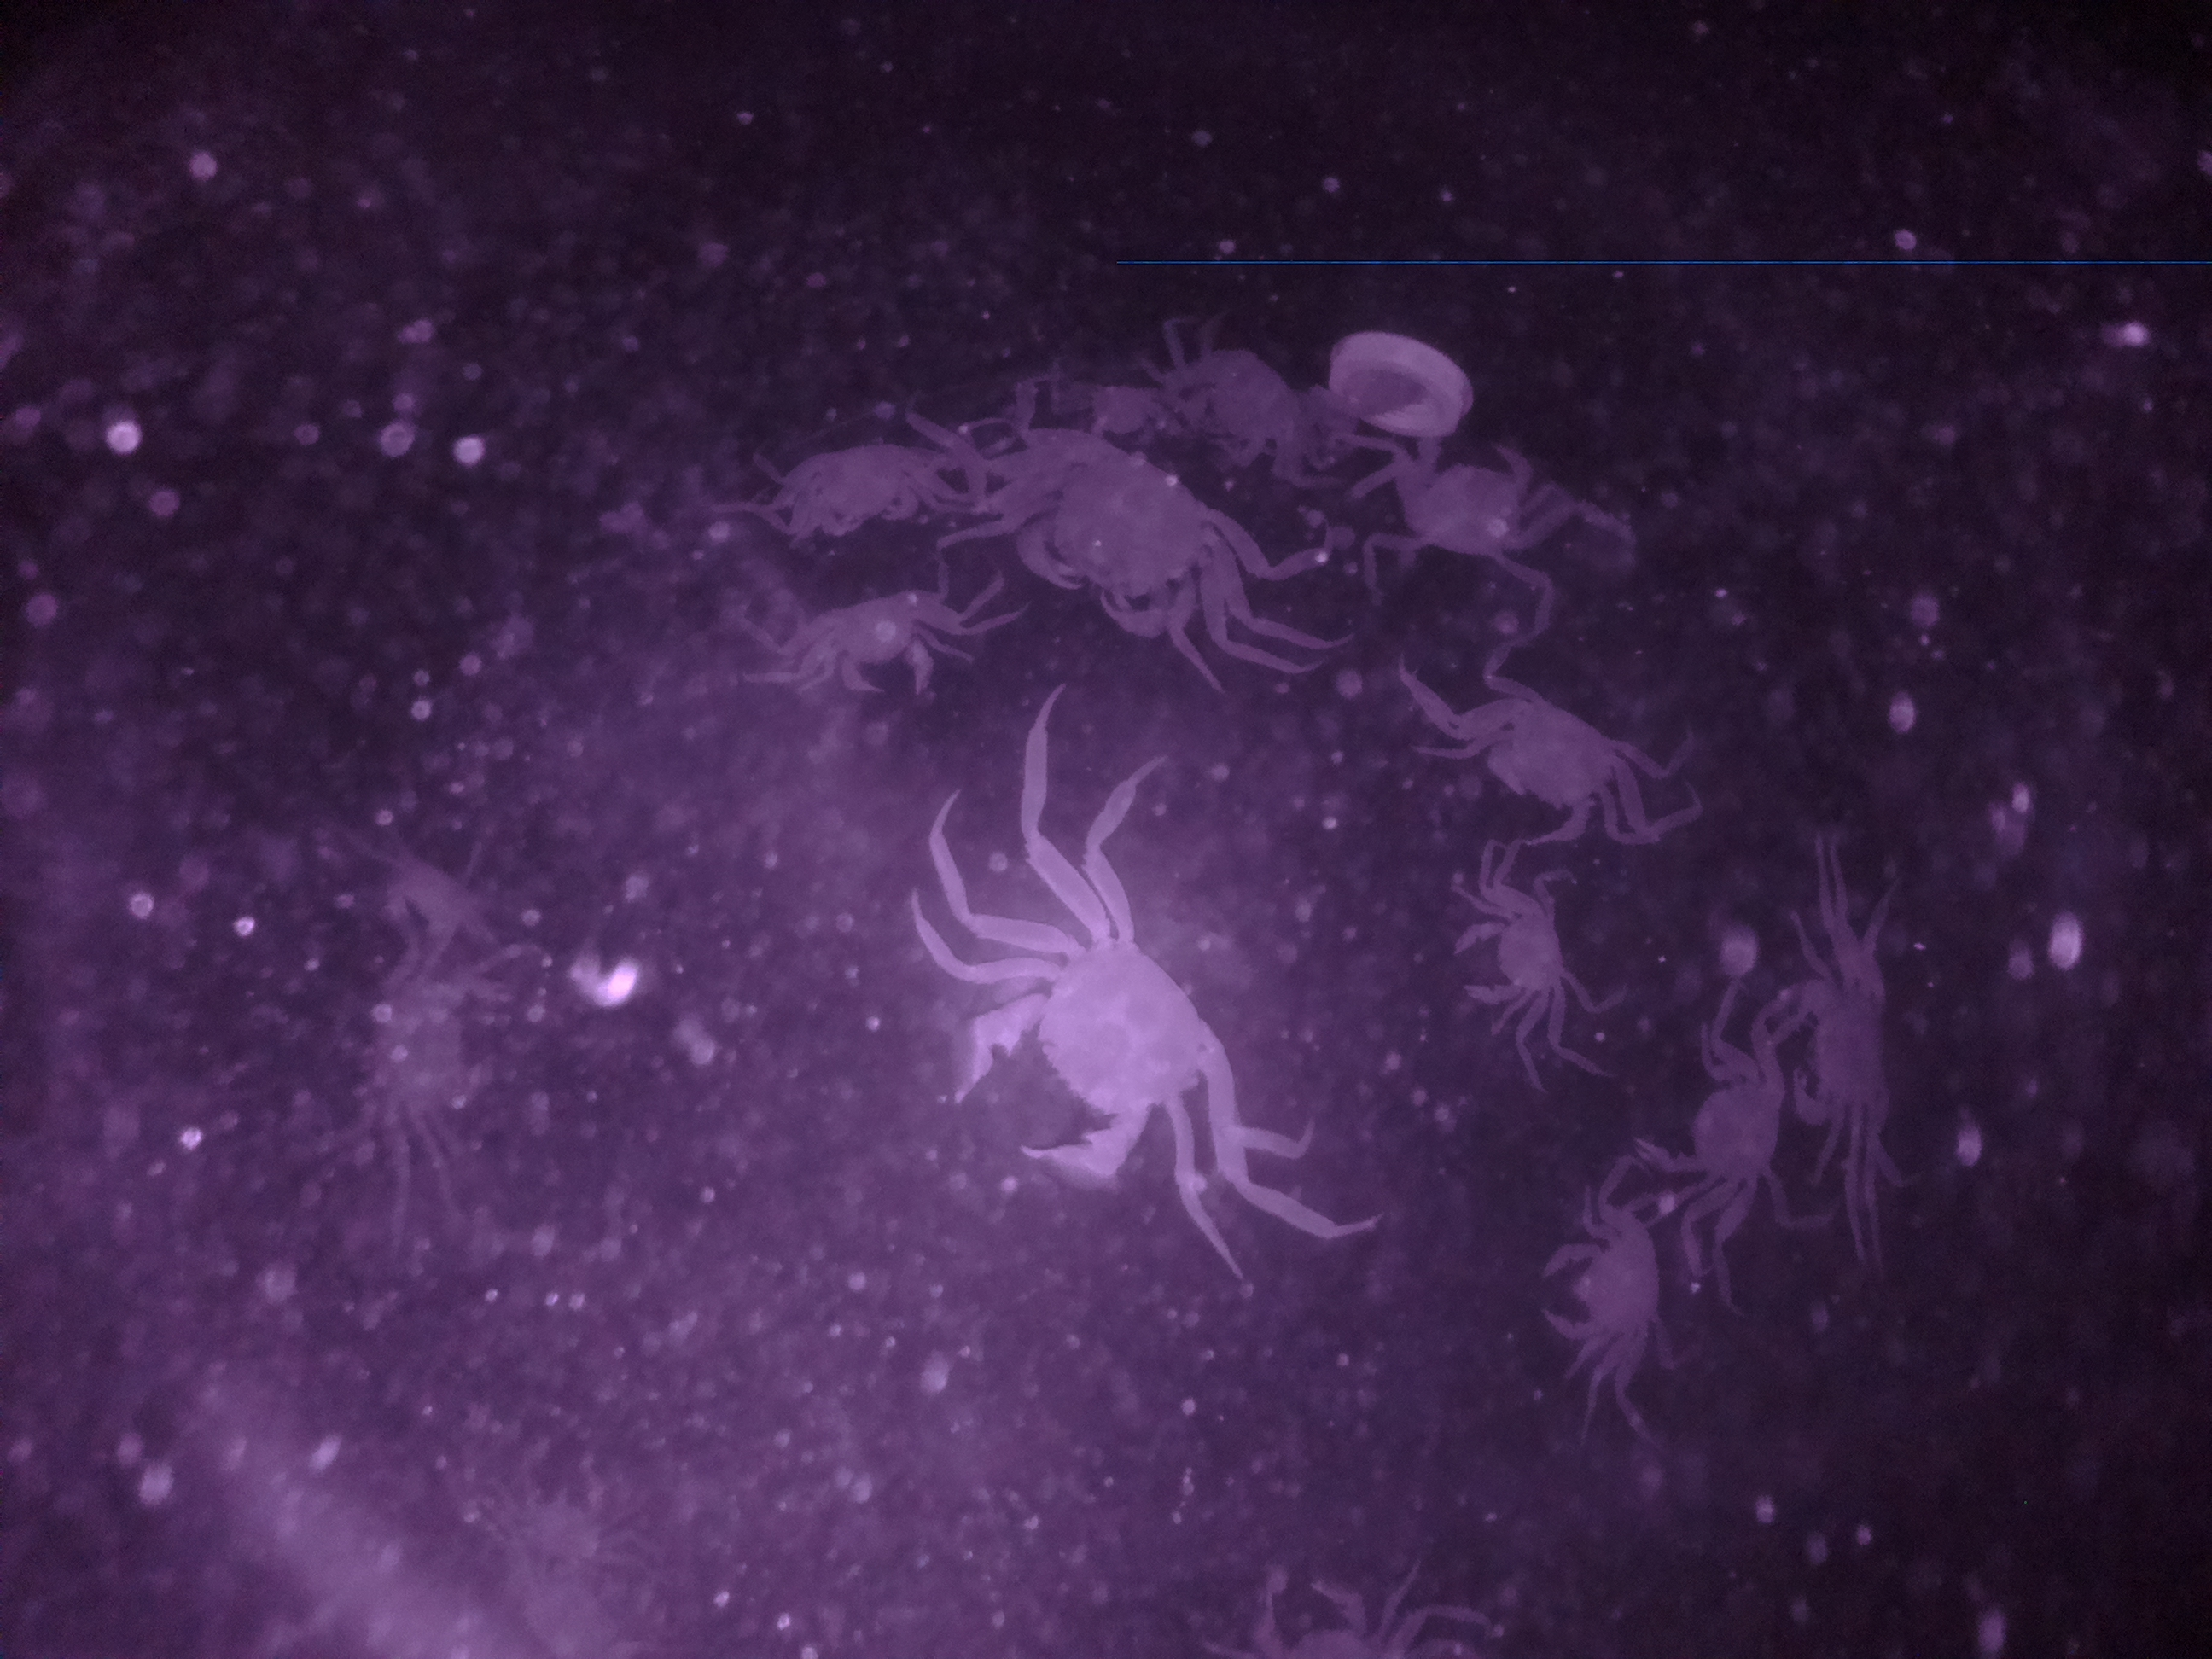Crab: (921, 929, 1245, 1195), (1003, 415, 1254, 641), (1446, 680, 1637, 852), (1367, 406, 1559, 570), (1527, 1216, 1681, 1373), (1784, 946, 1905, 1143), (759, 423, 941, 556), (794, 584, 965, 704), (1451, 892, 1576, 1046)
